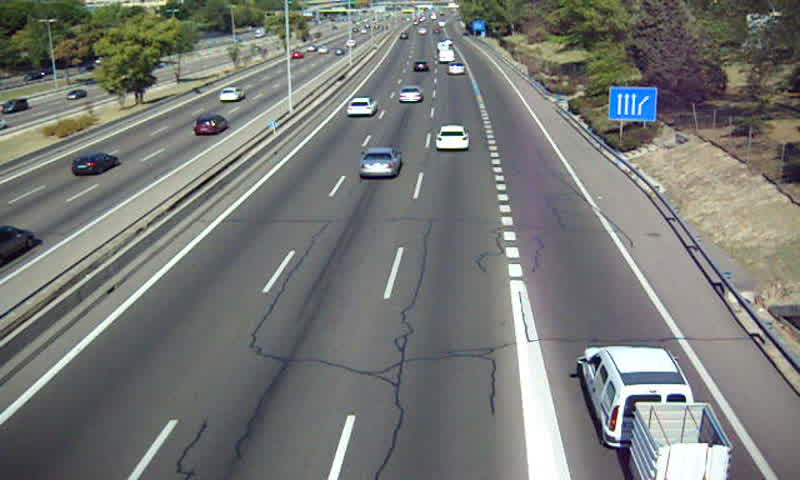car: (361, 147, 402, 177), (435, 125, 468, 151), (345, 97, 376, 117), (397, 86, 424, 105), (448, 62, 467, 76), (411, 60, 429, 74)
van: (581, 345, 695, 450)
